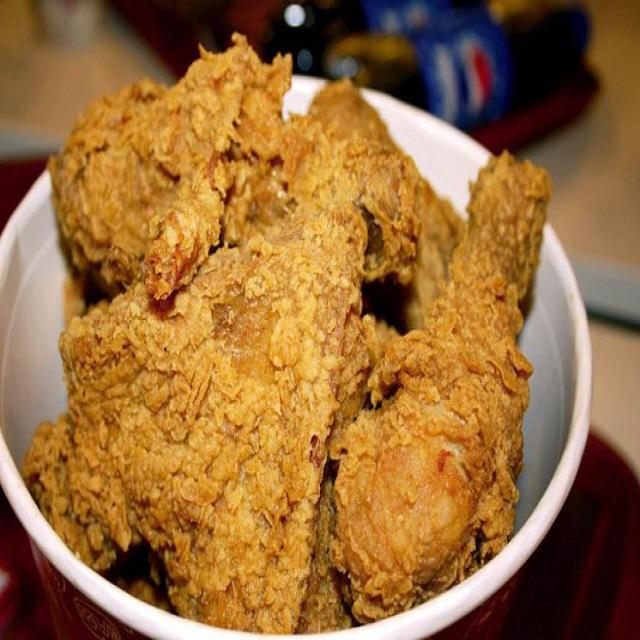Chicken -Fried Chicken-: (59, 201, 360, 624), (334, 151, 552, 619)
